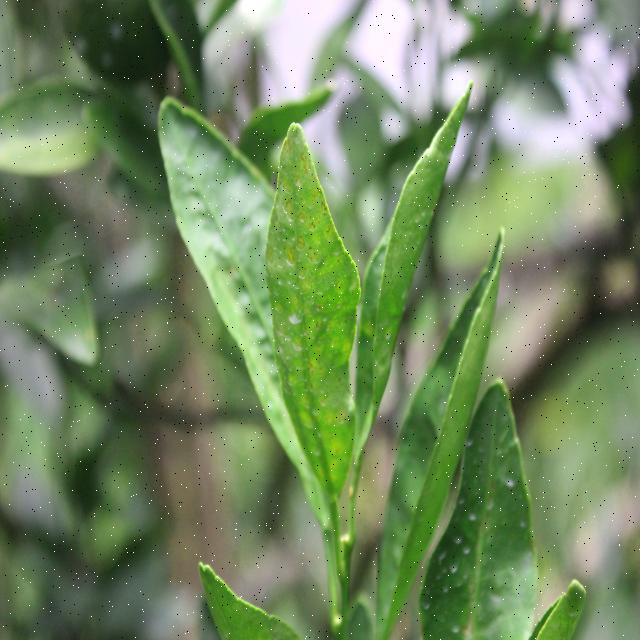canker: (263, 136, 360, 513)
